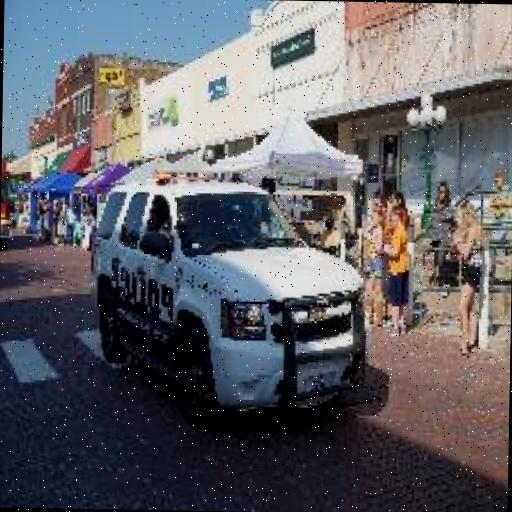Ambulance: (88, 157, 366, 434)
